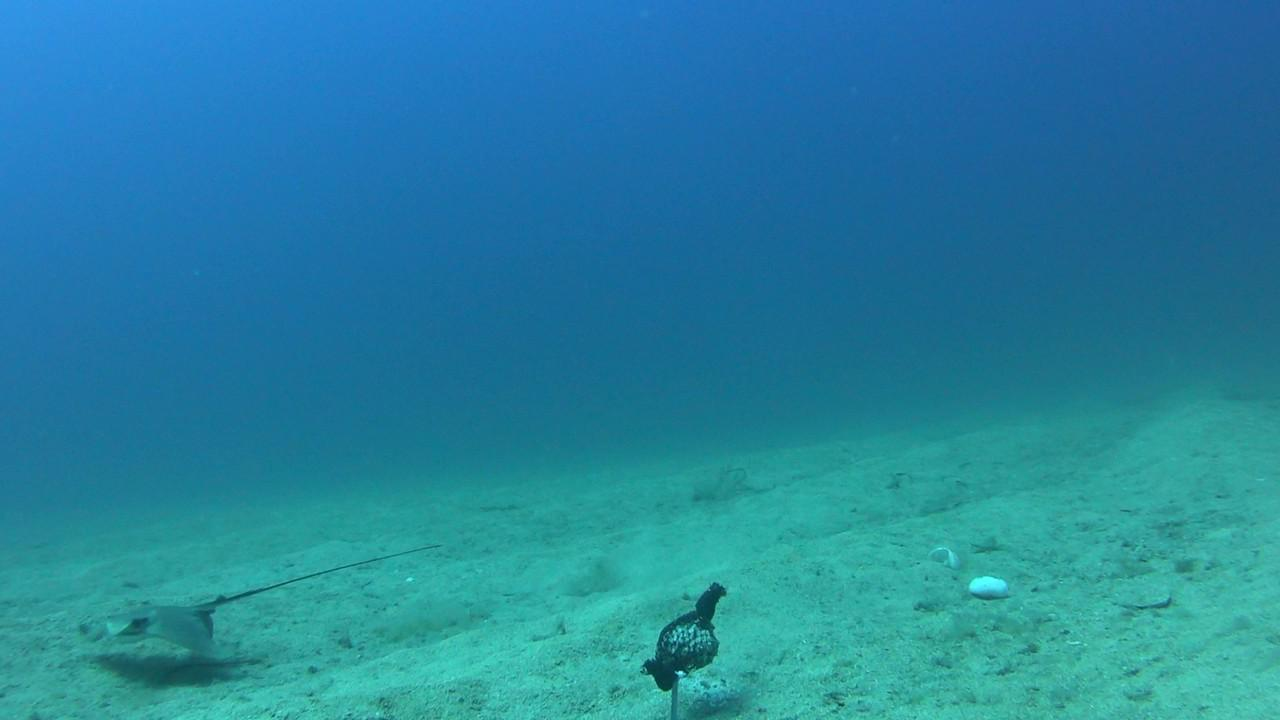myliobatis: (69, 550, 438, 654)
